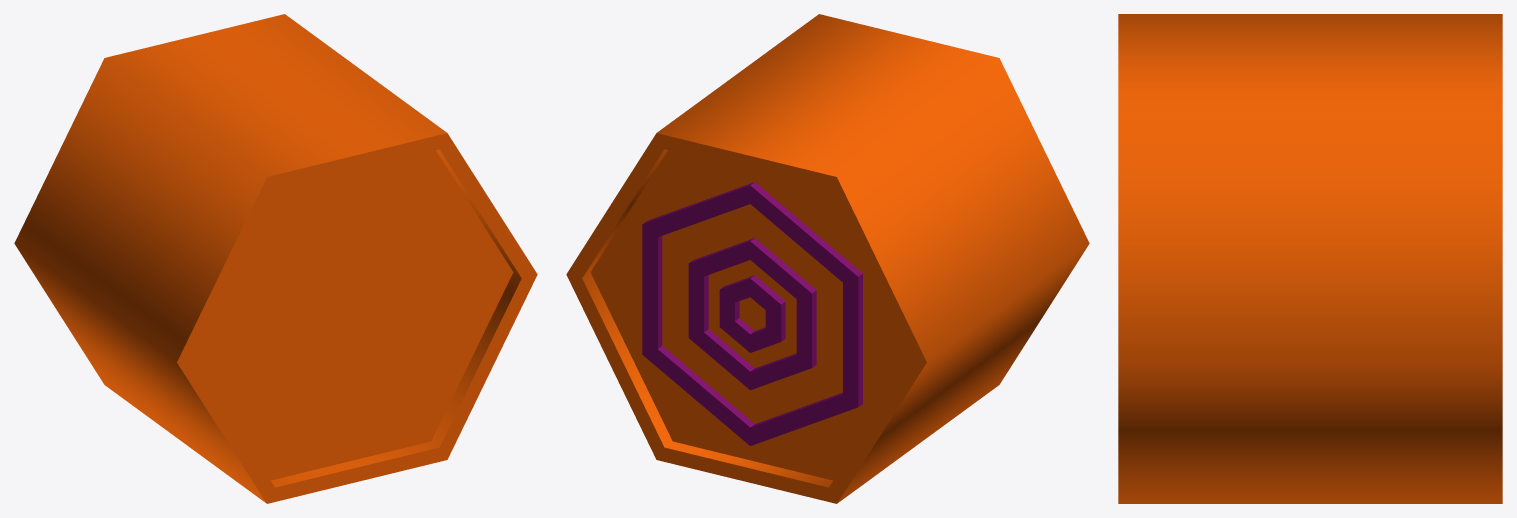
Rendered from Hex_Player1.FBX.
The picture shows the model from 3 angles, left to right: view 1: azimuth 30°, elevation 25°; view 2: azimuth 150°, elevation 25°; view 3: azimuth 270°, elevation 25°; orthographic projection. The views are drawn at different scales.
Visible parts, largest first — view 1: Cylinder004; view 2: Cylinder004; view 3: Cylinder004.
Part boxes in pixels (x1,y1,x2,y2): Cylinder004: (14,14,537,503); Cylinder004: (566,14,1089,503); Cylinder004: (1118,14,1502,503).
Bounding box in the file's own units: 25.51 × 19.92 × 22.09.
